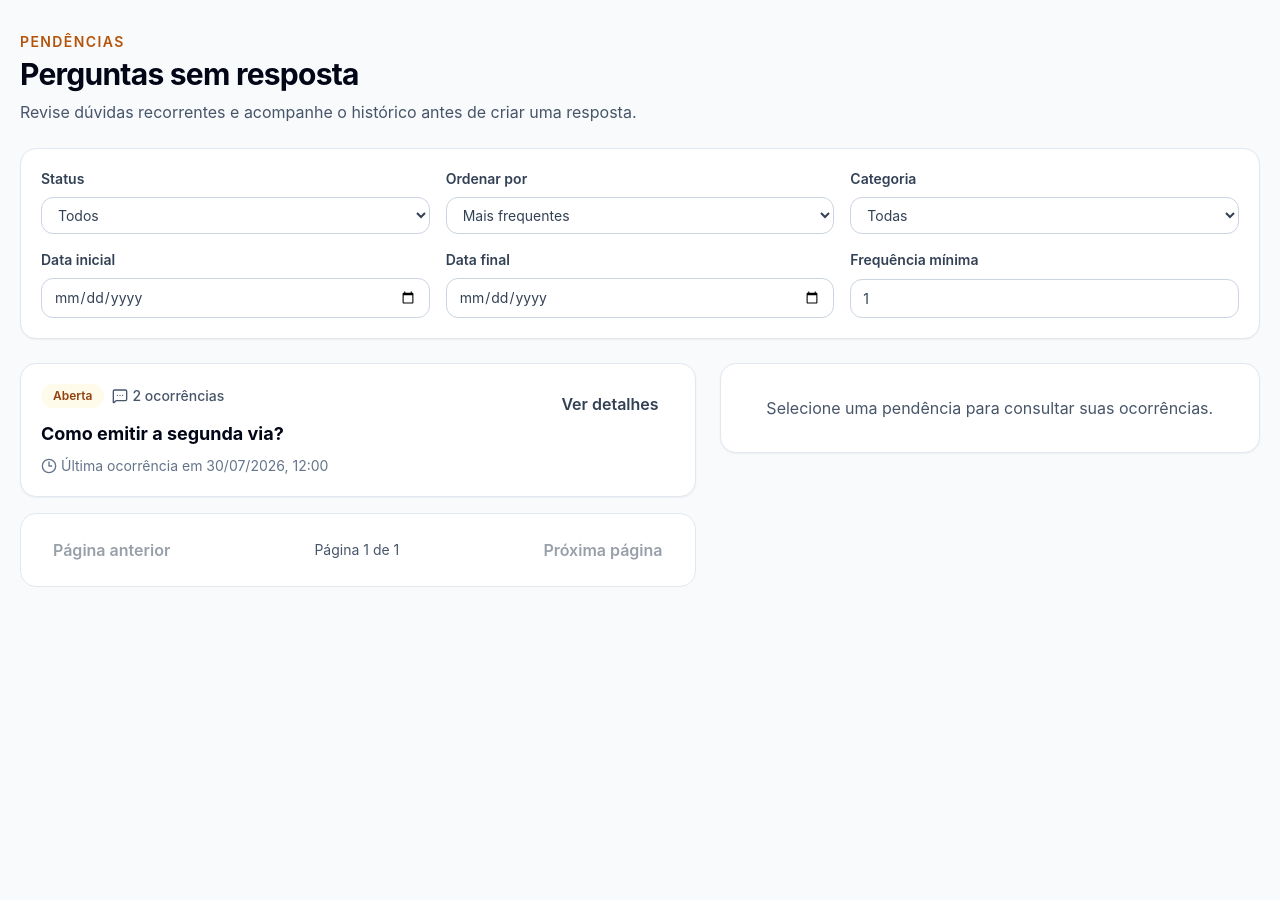
Test case: knowledge gap administration › retries a failed resolution and reports a stale conflict without losing context
Click the button "Ver detalhes" at (610, 404), box [545,384,675,424]
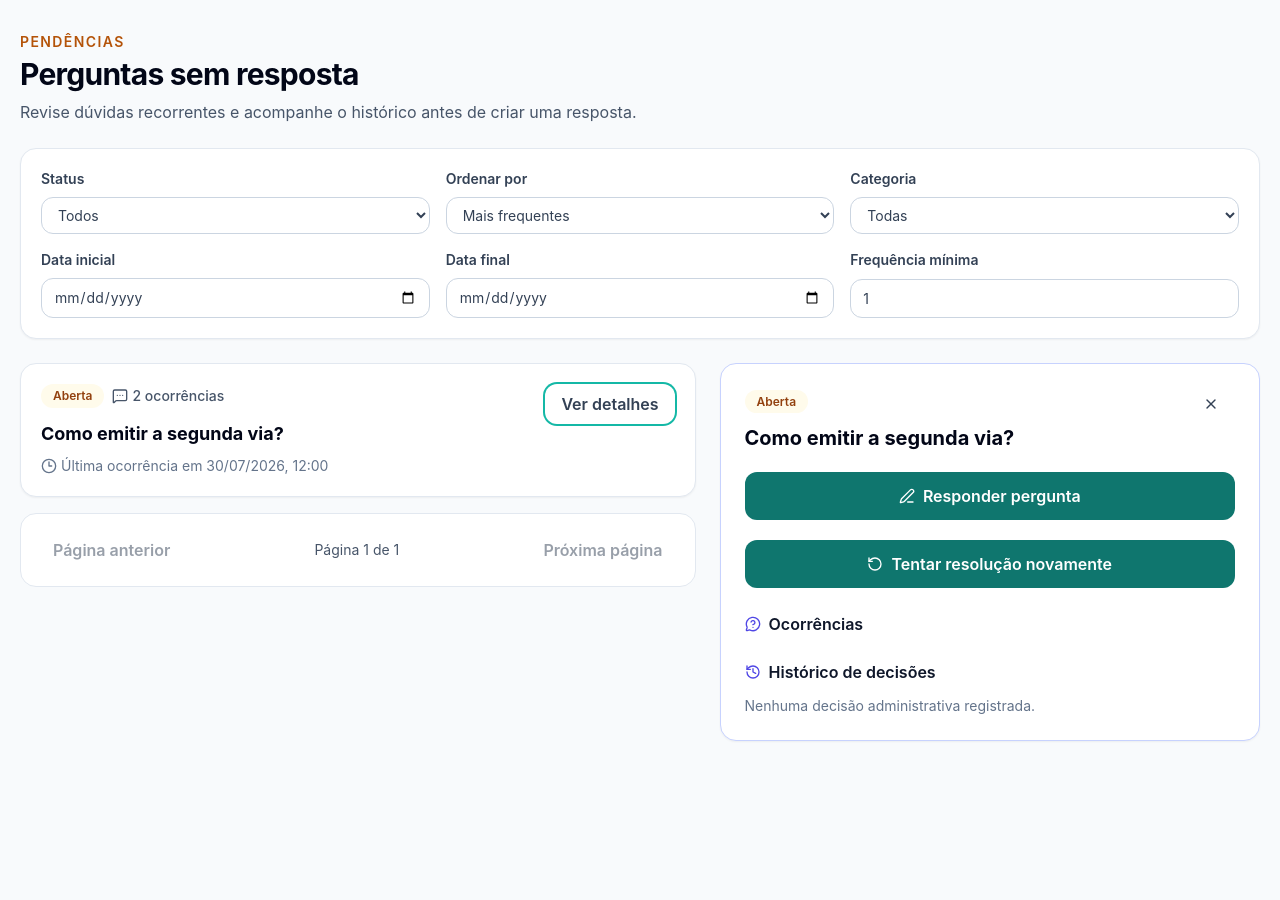
Click the button "Tentar resolução novamente" at (990, 564), box [744,540,1235,588]
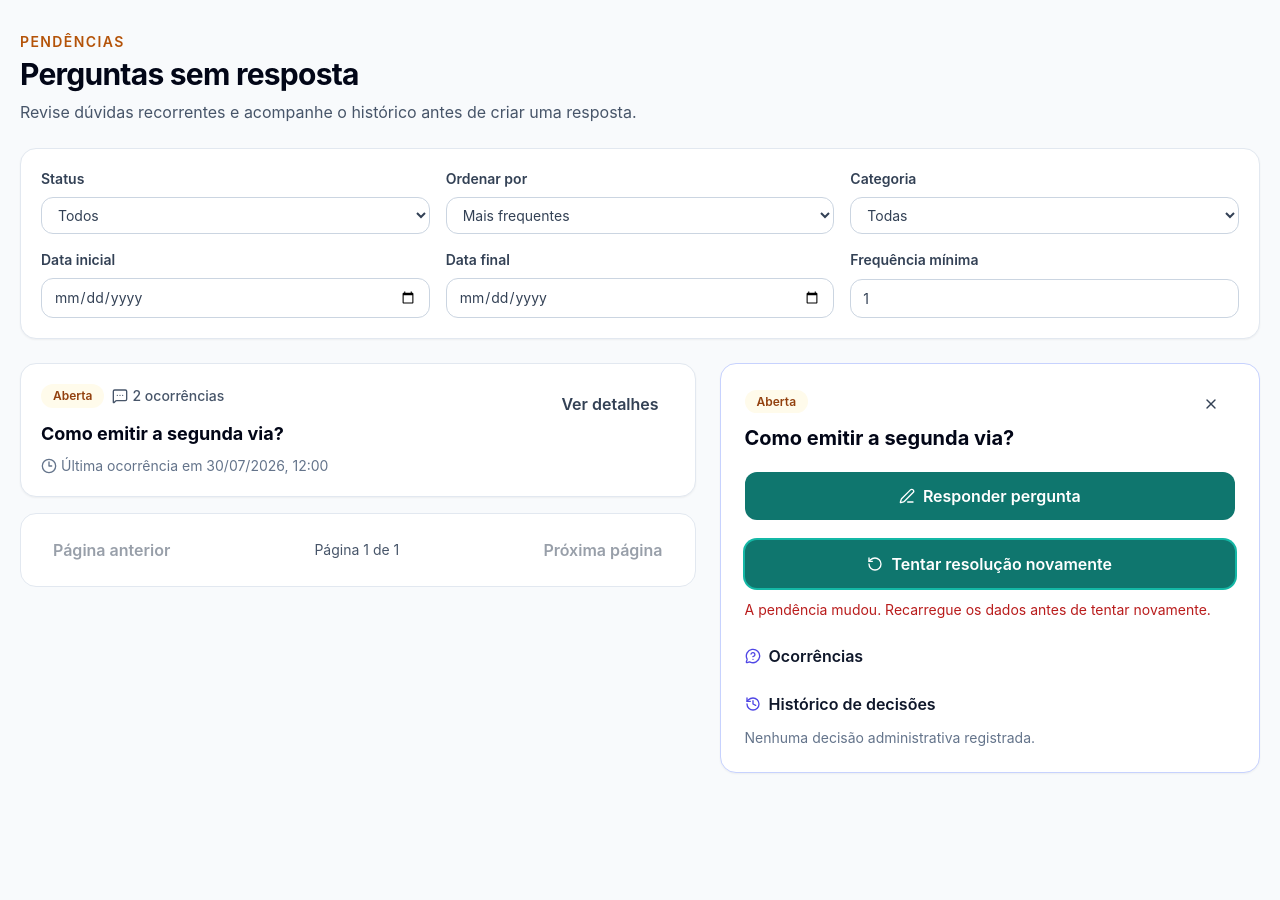
Now the number of headings "Como emitir a segunda via?" is 2, box [41,423,284,444]; [744,424,1014,452]
Now the text "A pendência mudou. Recarregue os dados antes de tentar novamente." is shown, box [744,600,1235,620]
